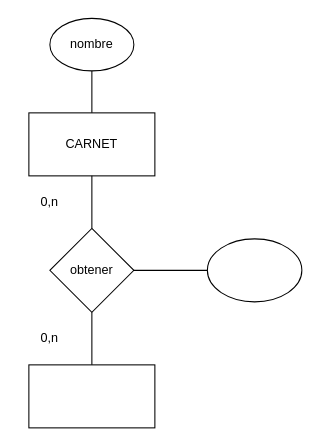
Image size: 320x446. Some labels were removed from this diagram. The shapes that lost their labels are listed below. From the top down, each one's centre as x and y in pixels, then its label:
At (254,270): "fecha obtención".
At (91,396): "PERSONA".
